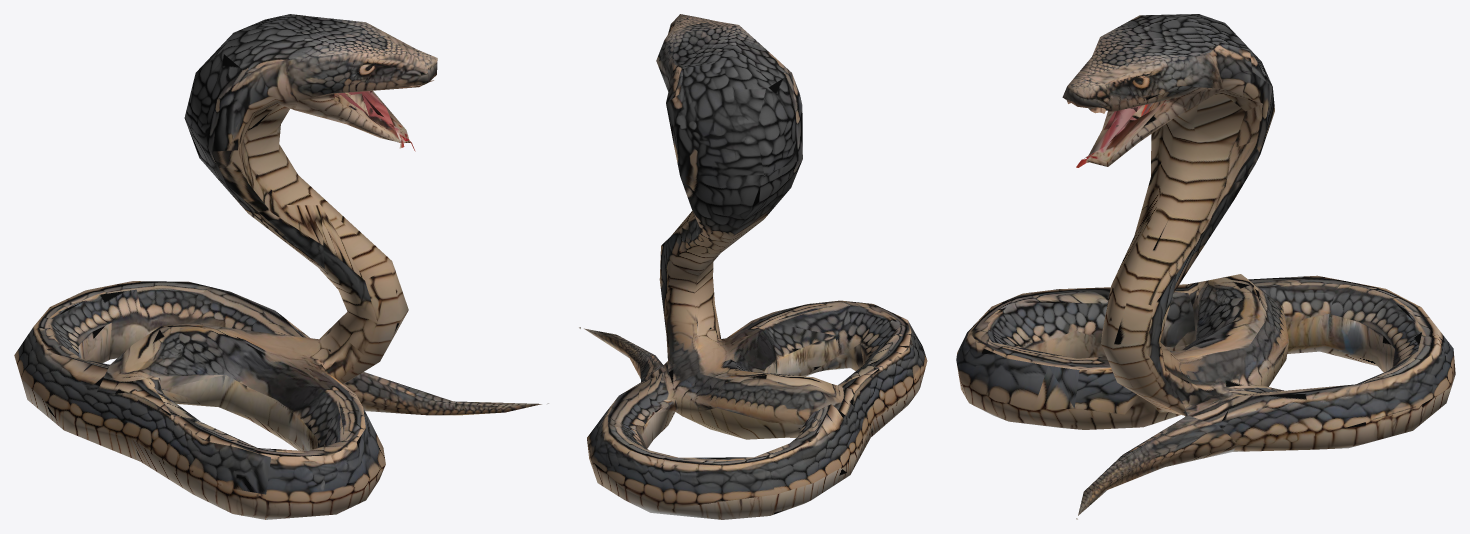
The model's file is cobra.fbx.
3 renders of one model, left to right at view 1: azimuth 30°, elevation 25°; view 2: azimuth 150°, elevation 25°; view 3: azimuth 270°, elevation 25°, orthographic. The views are drawn at different scales.
Visible parts, largest first — view 1: tripo_node_a1f963f5; view 2: tripo_node_a1f963f5; view 3: tripo_node_a1f963f5.
Part boxes in pixels (x1,y1,x2,y2): tripo_node_a1f963f5: [14, 14, 548, 519]; tripo_node_a1f963f5: [579, 14, 927, 519]; tripo_node_a1f963f5: [956, 14, 1455, 519].
Size of the model in its own units: 91.01 by 86.9 by 98.51.
Materials: 1 (1 with a texture image).
